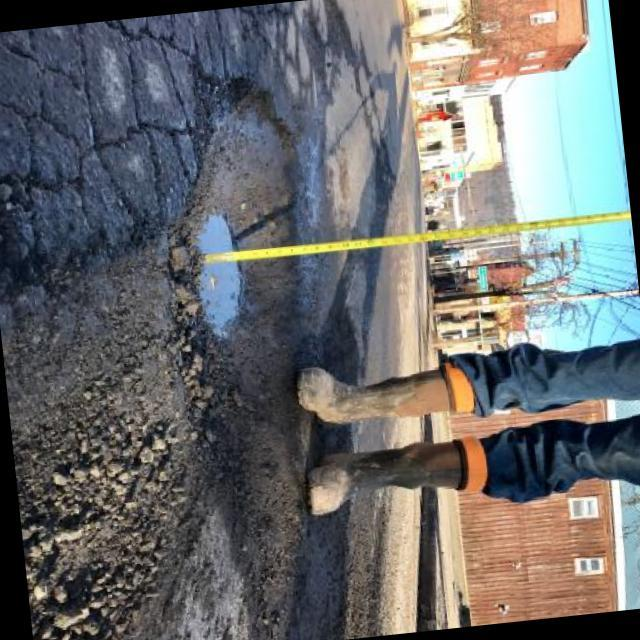pothole: (148, 96, 338, 404)
